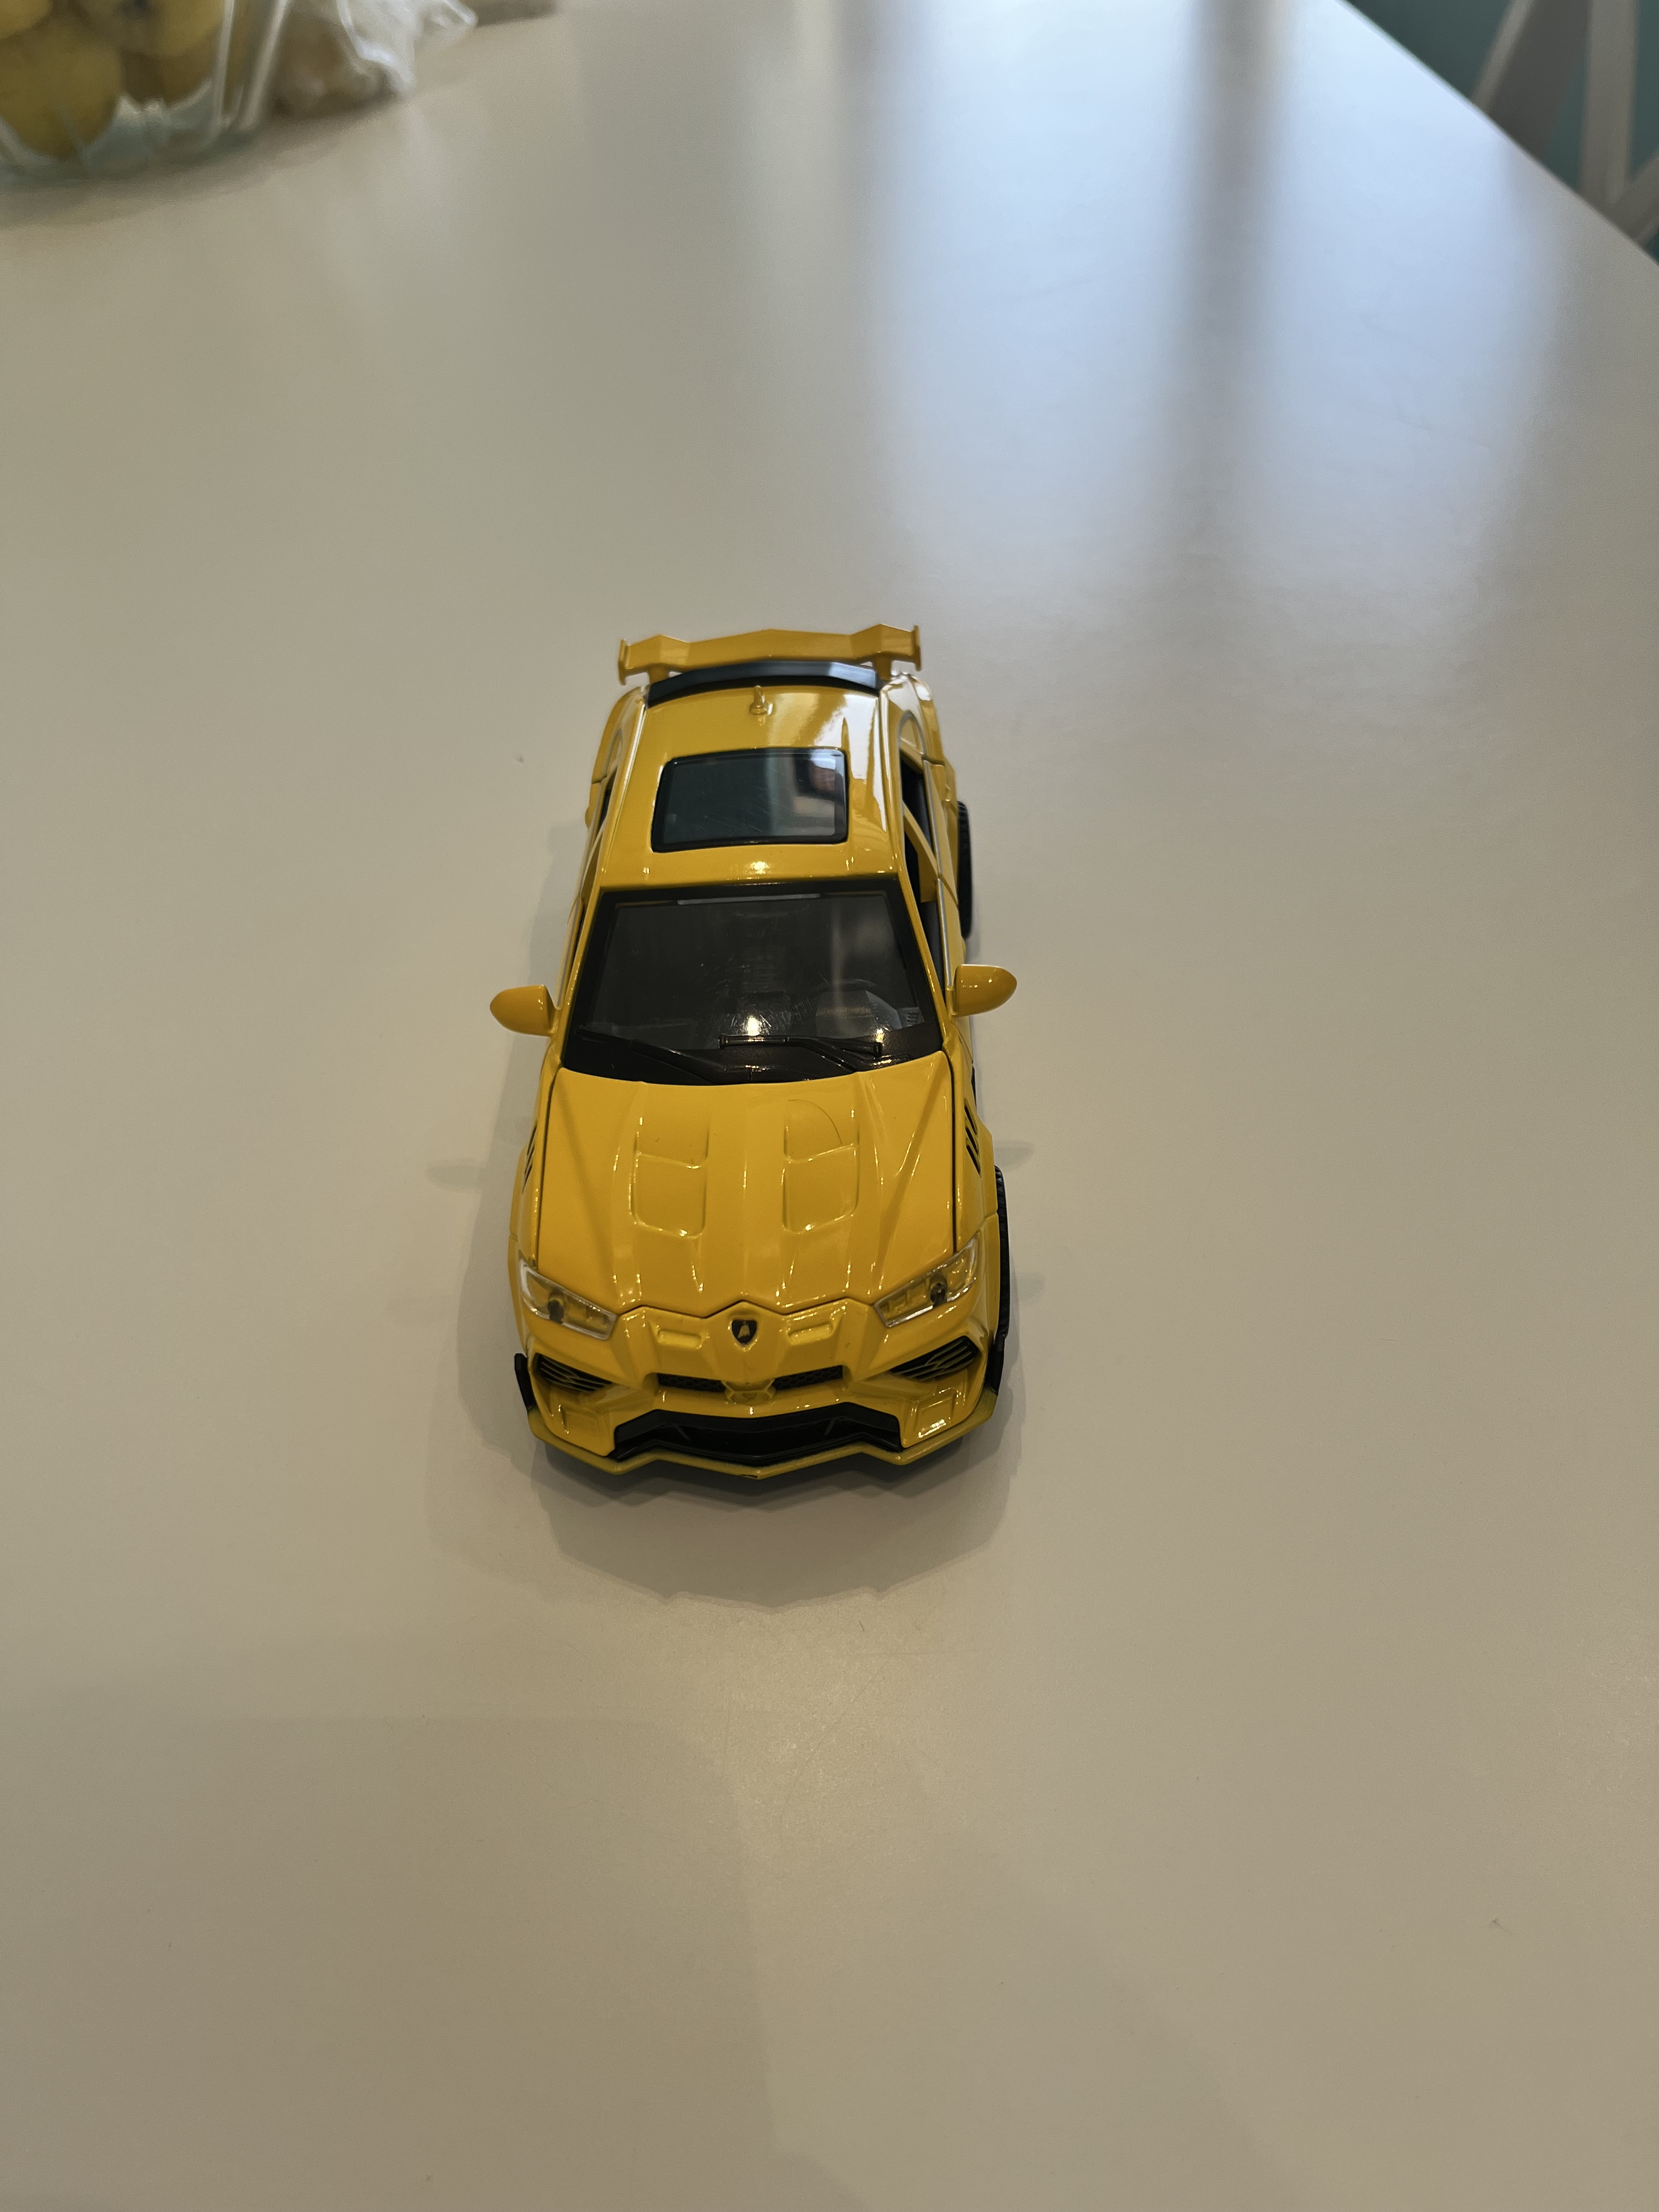lambo: (484, 552, 1032, 1578)
